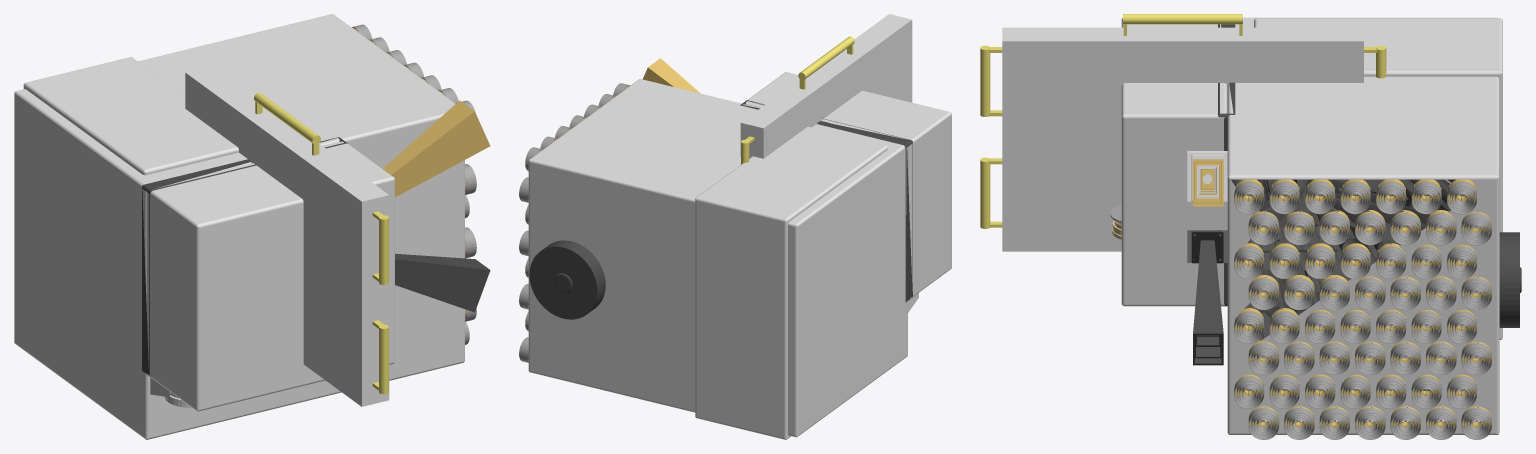
Rendered from station-explorer-for-x-ray-timing-and-navigation-sextant.glb.
The picture shows the model from 3 angles, left to right: view 1: azimuth 30°, elevation 25°; view 2: azimuth 150°, elevation 25°; view 3: azimuth 270°, elevation 25°; orthographic projection. The views are drawn at different scales.
Visible parts, largest first — view 1: Layer_4, Layer_1, Layer_3; view 2: Layer_4, Layer_1, Layer_3; view 3: Layer_4, Layer_3, Layer_1.
Boxes of the visible parts, <box> form: Layer_4: <box>14,14,490,439</box>; Layer_1: <box>185,66,389,406</box>; Layer_3: <box>351,24,476,344</box>; Layer_4: <box>528,58,951,439</box>; Layer_1: <box>740,14,912,164</box>; Layer_3: <box>519,83,630,362</box>; Layer_4: <box>1121,17,1521,434</box>; Layer_3: <box>1234,179,1491,439</box>; Layer_1: <box>980,14,1386,251</box>.
Size of the model in its own units: 116 by 106 by 159.
